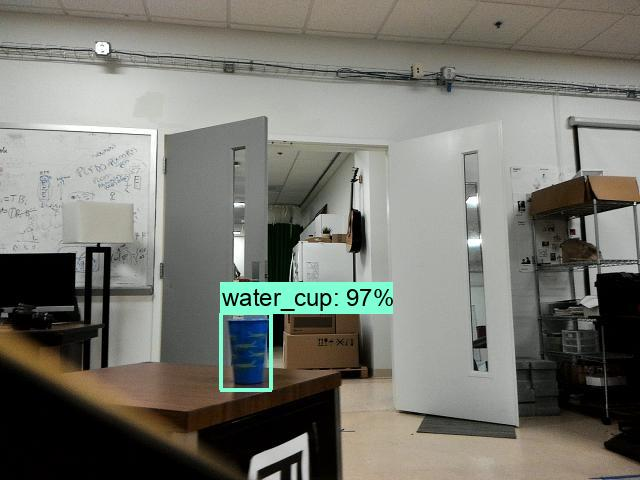water_cup: (222, 317, 272, 386)
